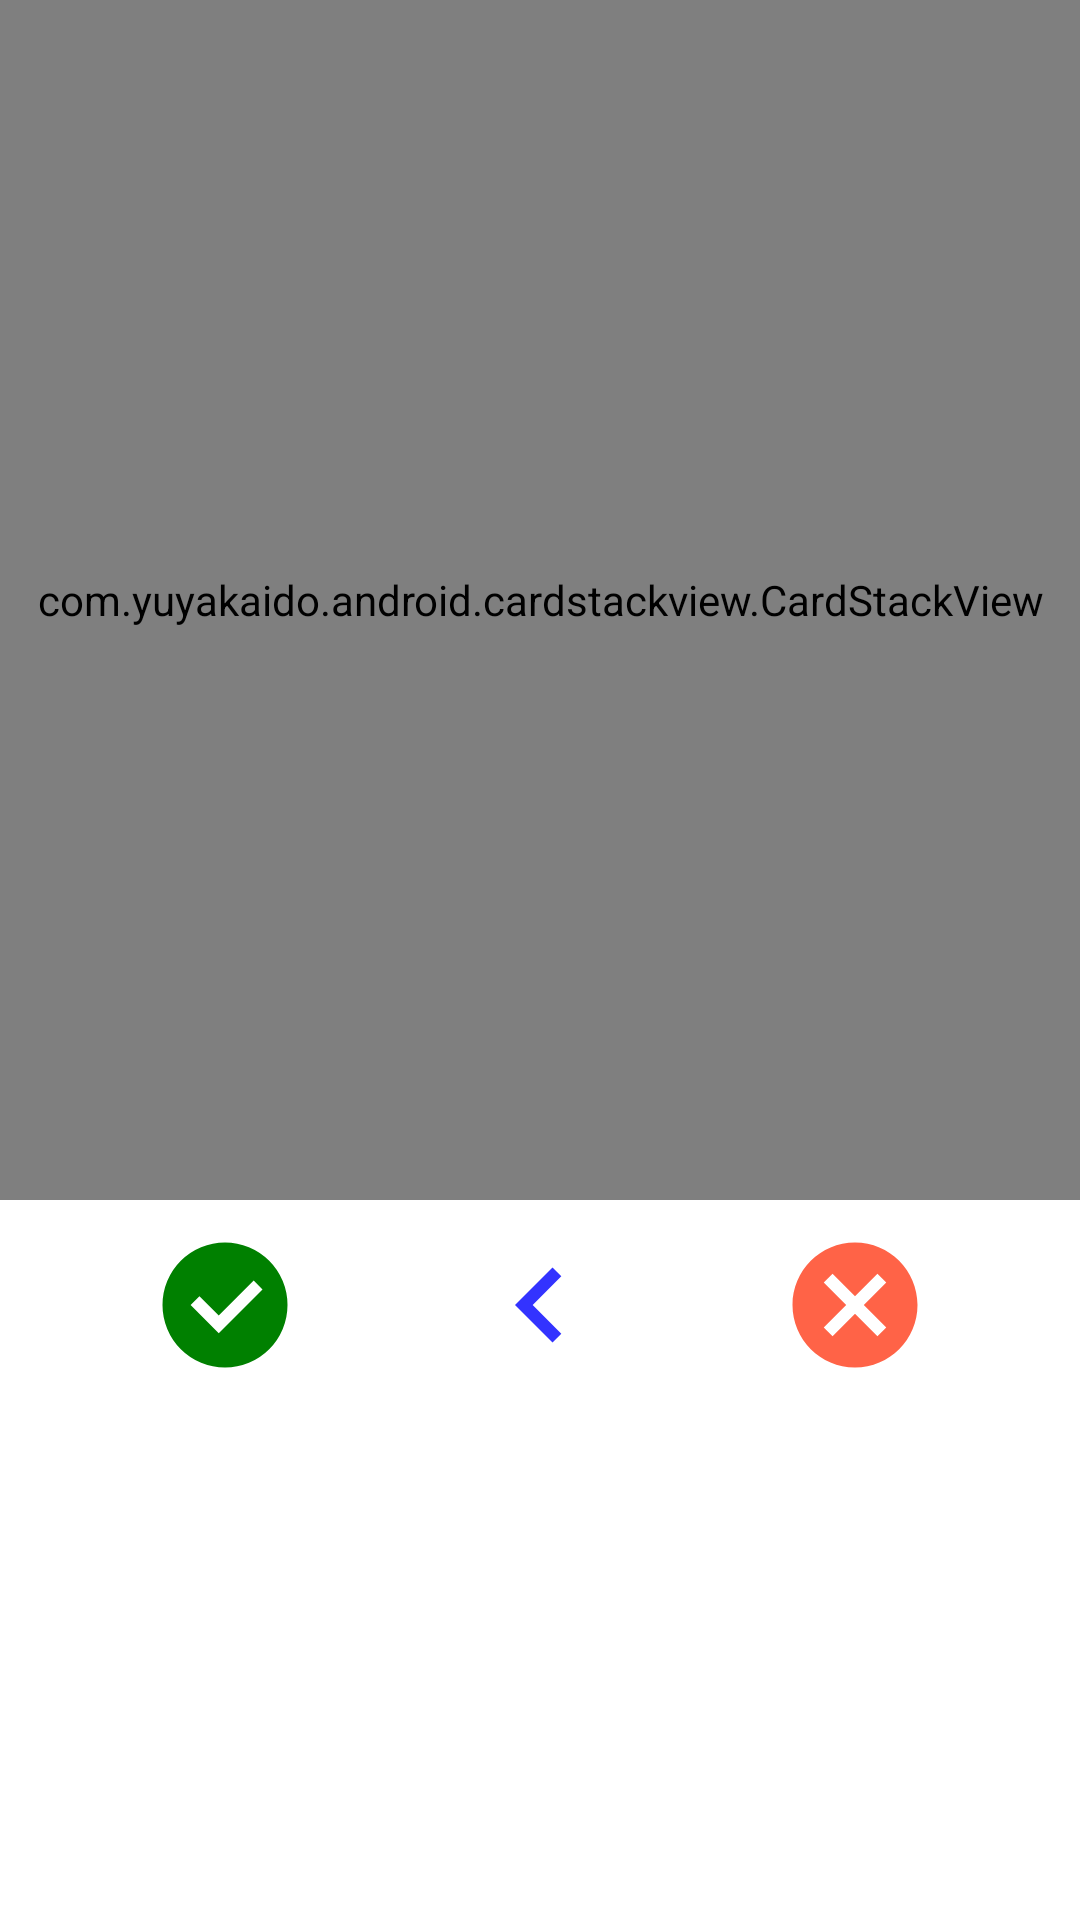

Named icons in this screenshot (1080×1920) and their bounding boxes, [left=x1, top=y1, right=x2, bottom=y2]:
back: [left=515, top=1267, right=561, bottom=1343]
deny: [left=792, top=1242, right=918, bottom=1368]
tick: [left=162, top=1242, right=288, bottom=1368]
